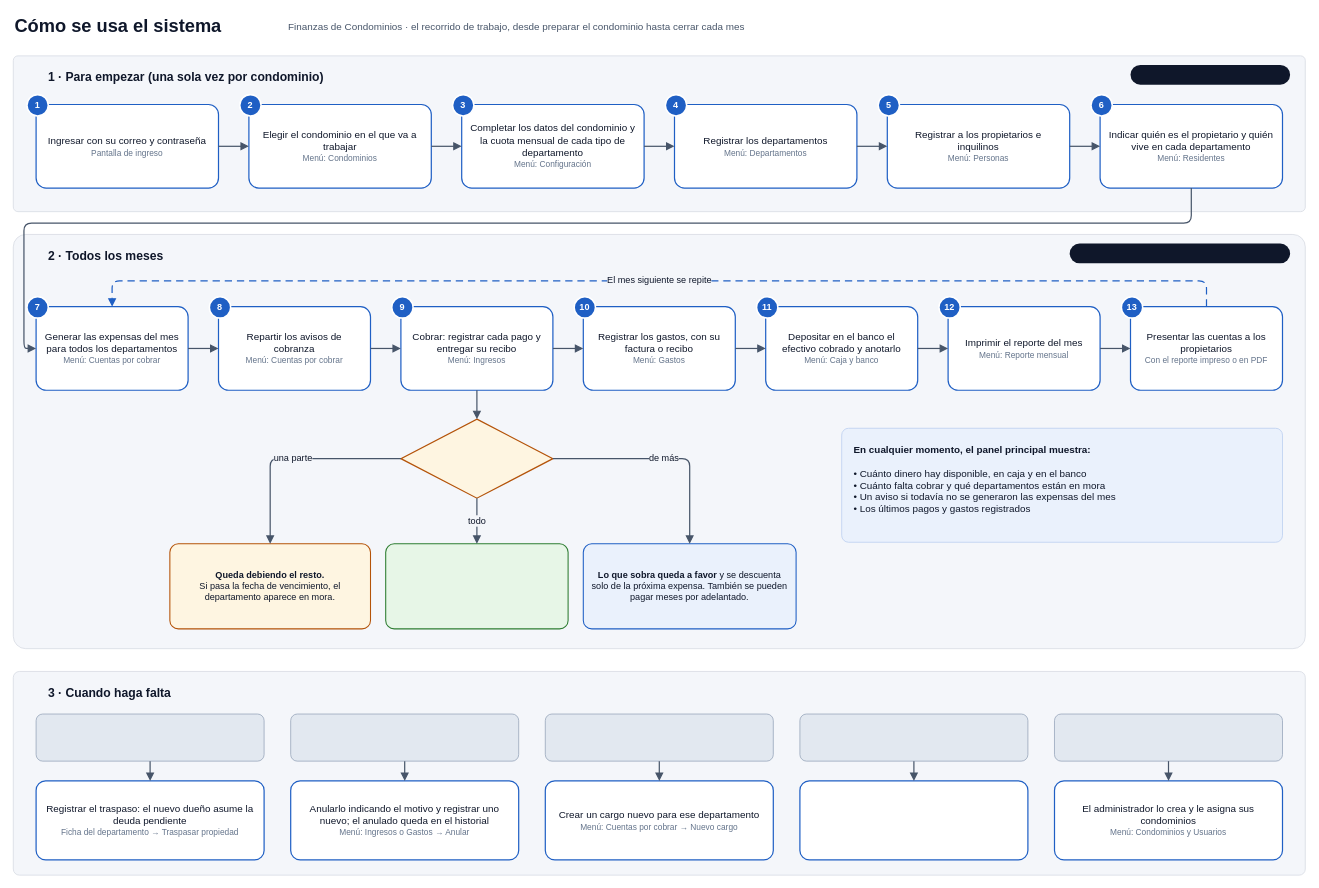
The diagram is 1319 pixels wide and 888 high, and some of its shapes have lost their labels. Each missing label, with the centre of its shape:
"El departamento queda al día." belongs at point 476,586.
"Entra dinero que no es de un departamento (alquiler del salón, intereses)" belongs at point 913,737.
"Hay que cobrar algo extra: una multa o una cuota extraordinaria" belongs at point 659,737.
"Hay un error en un recibo o en un gasto" belongs at point 404,737.
"Lo hace el administrador" belongs at point 1210,74.
"Lo hace el tesorero o el administrador" belongs at point 1179,253.
"Registrarlo como ingreso sin departamento Menú: Ingresos → Registrar pago" belongs at point 913,820.
"Se administra otro condominio o llega un tesorero nuevo" belongs at point 1168,737.
"Se vende un departamento" belongs at point 149,737.
"¿Cuánto pagó?" belongs at point 476,458.
